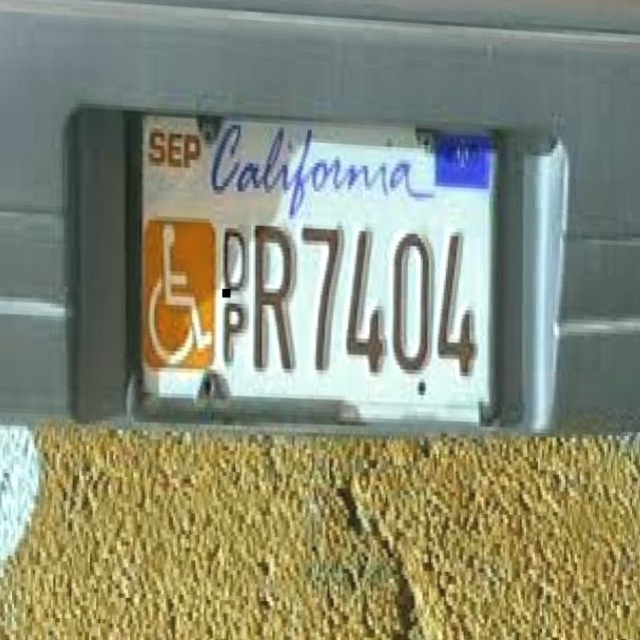ISA: (142, 218, 217, 370)
